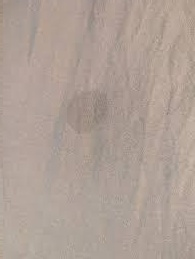oil: (65, 87, 116, 136)
